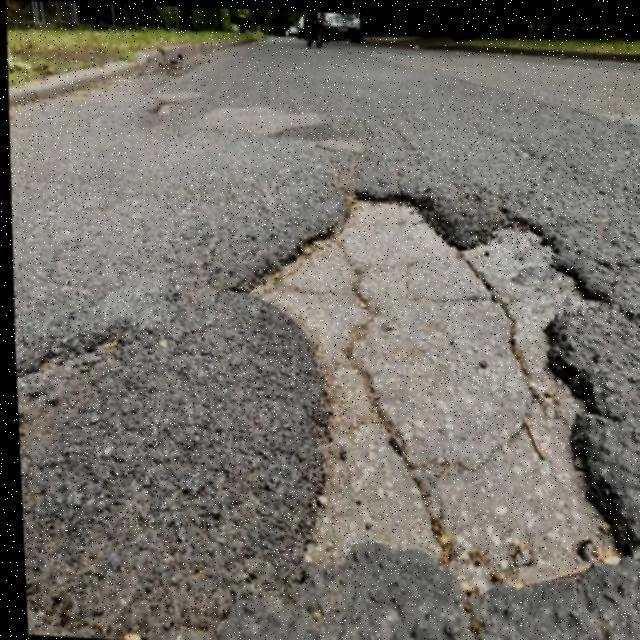pothole: (224, 152, 624, 601)
